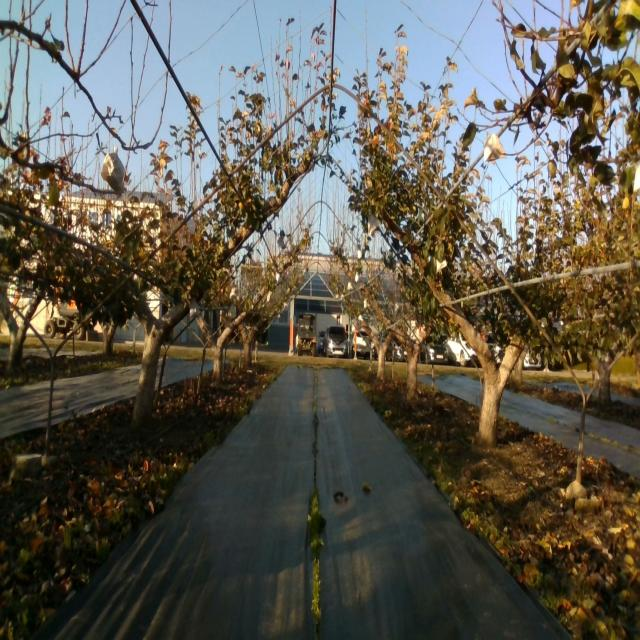pearbags: (100, 146, 126, 197), (483, 133, 507, 161), (367, 214, 380, 235)
